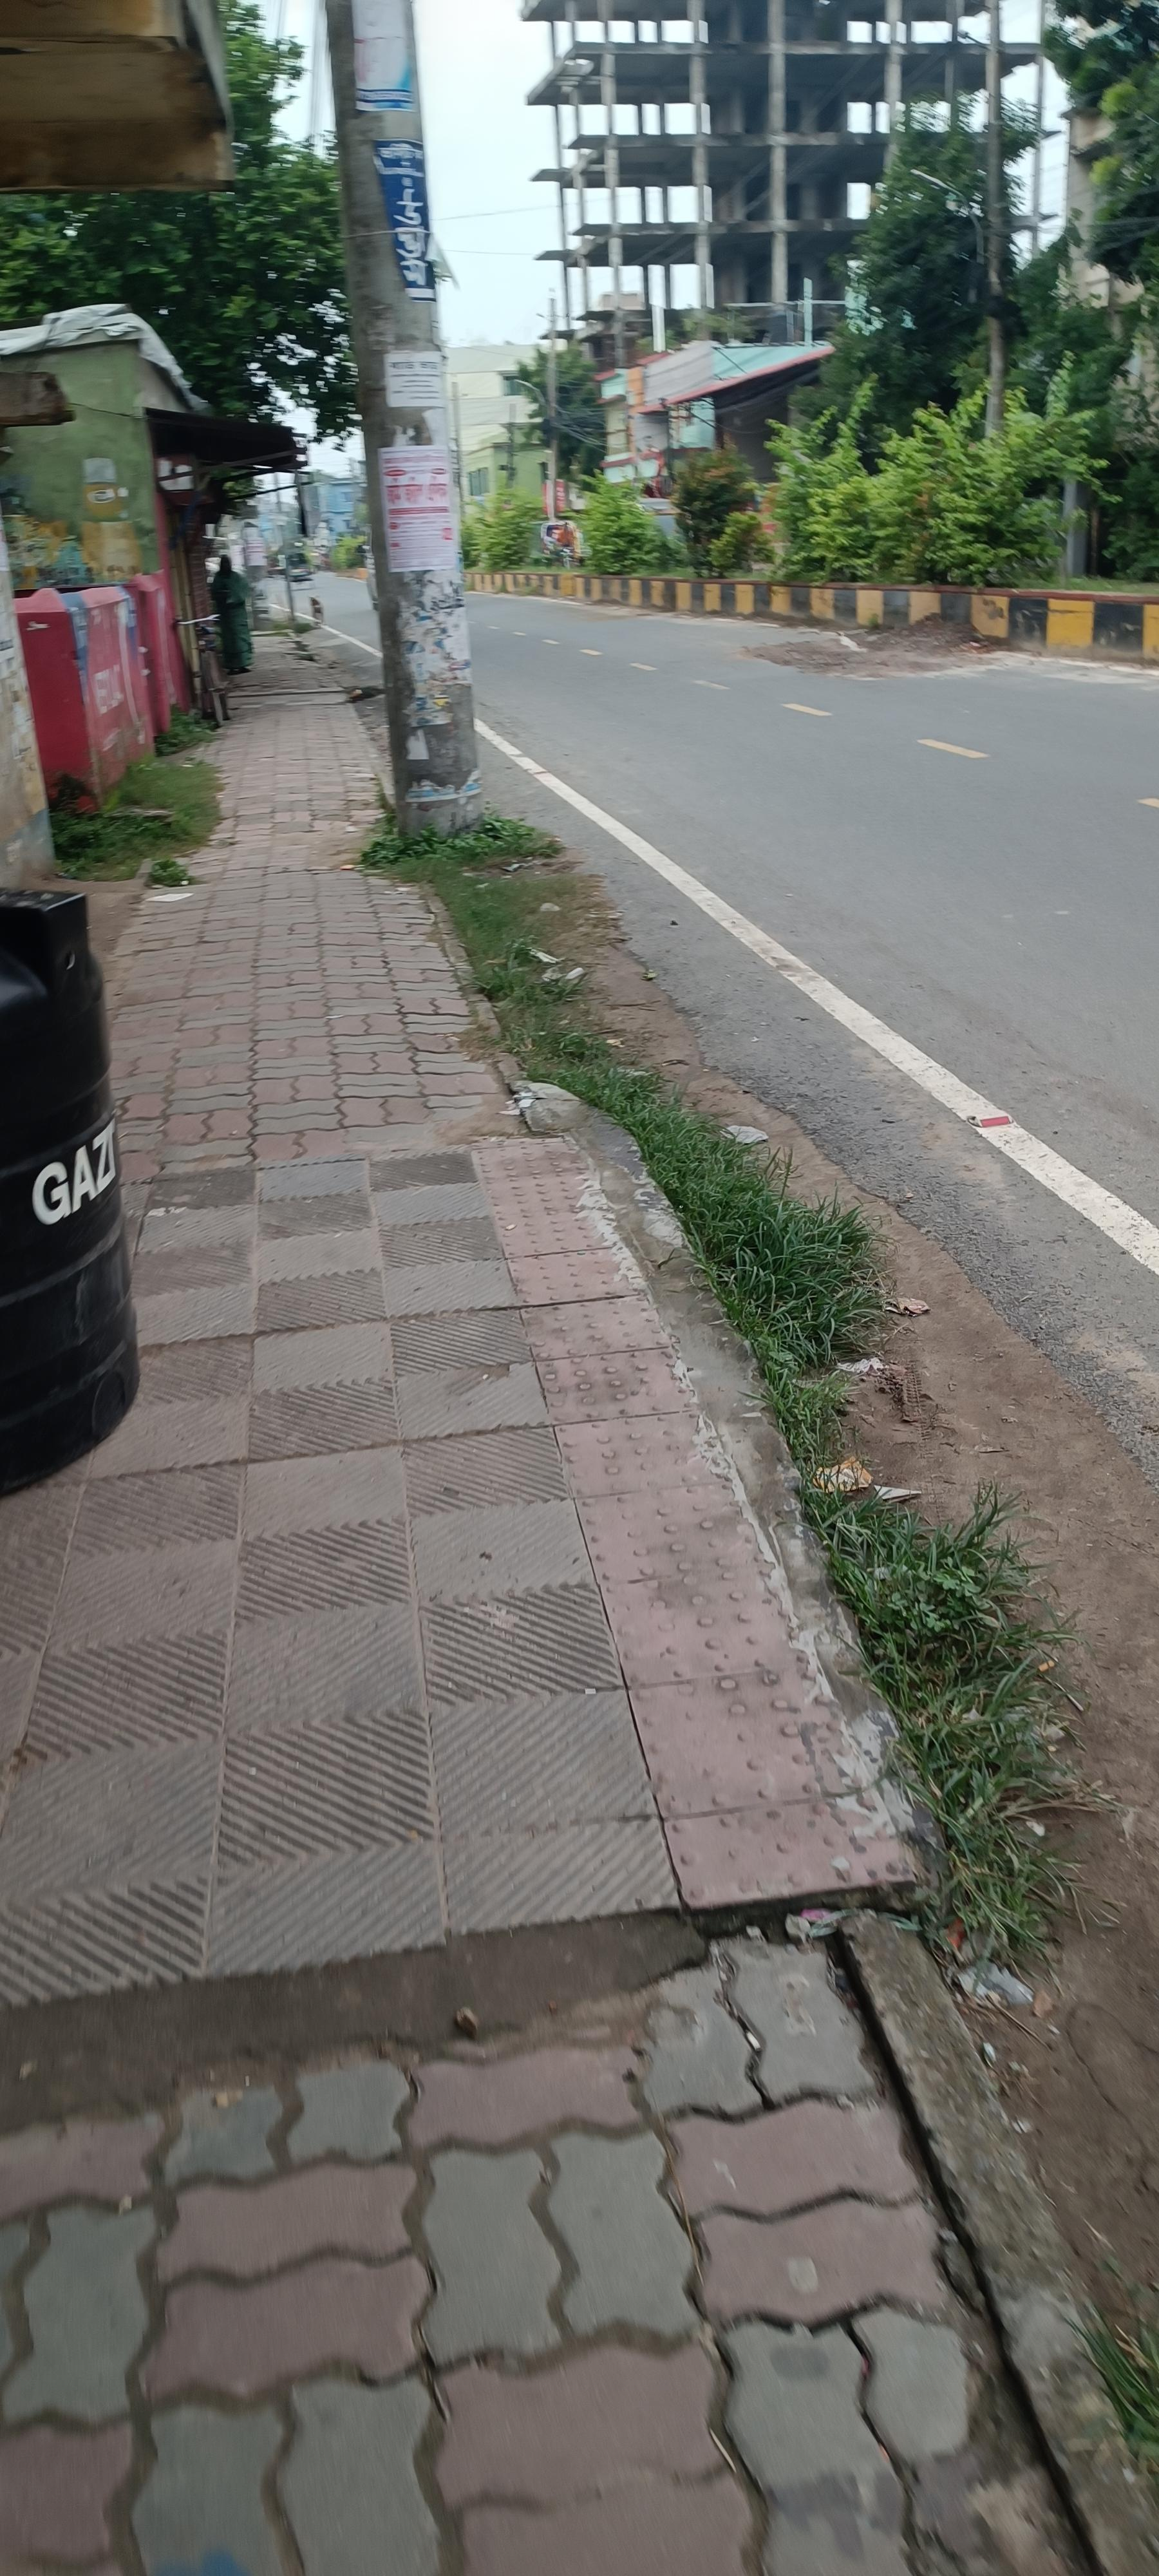Garbage-bin: (210, 554, 256, 674)
Light-pole: (323, 3, 486, 839)
Pothole: (0, 825, 931, 2221)
